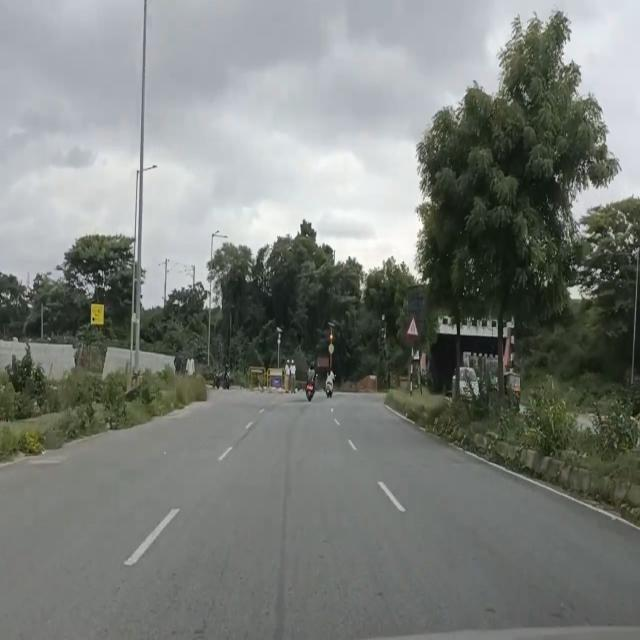bien_cam: (406, 316, 419, 338)
